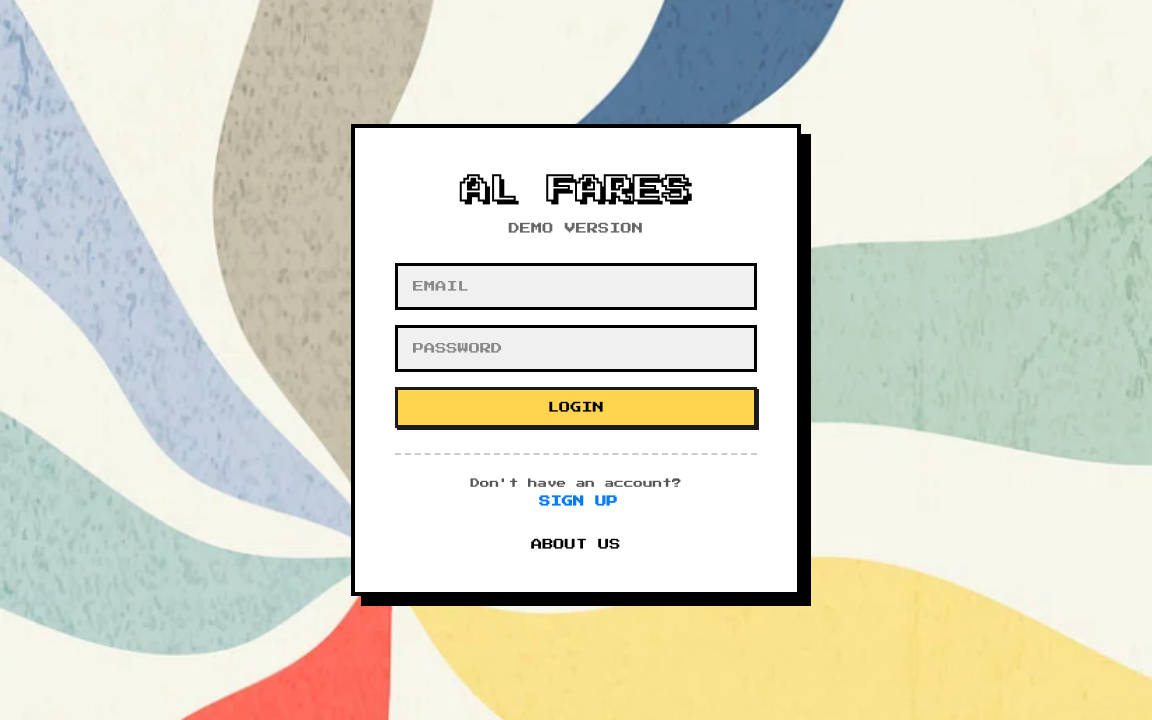
LoginForm Component Tests › shows error message on failed login
Type "wrong@test.com" into the field with placeholder "EMAIL" at (576, 286), box left=395, top=263, right=757, bottom=310
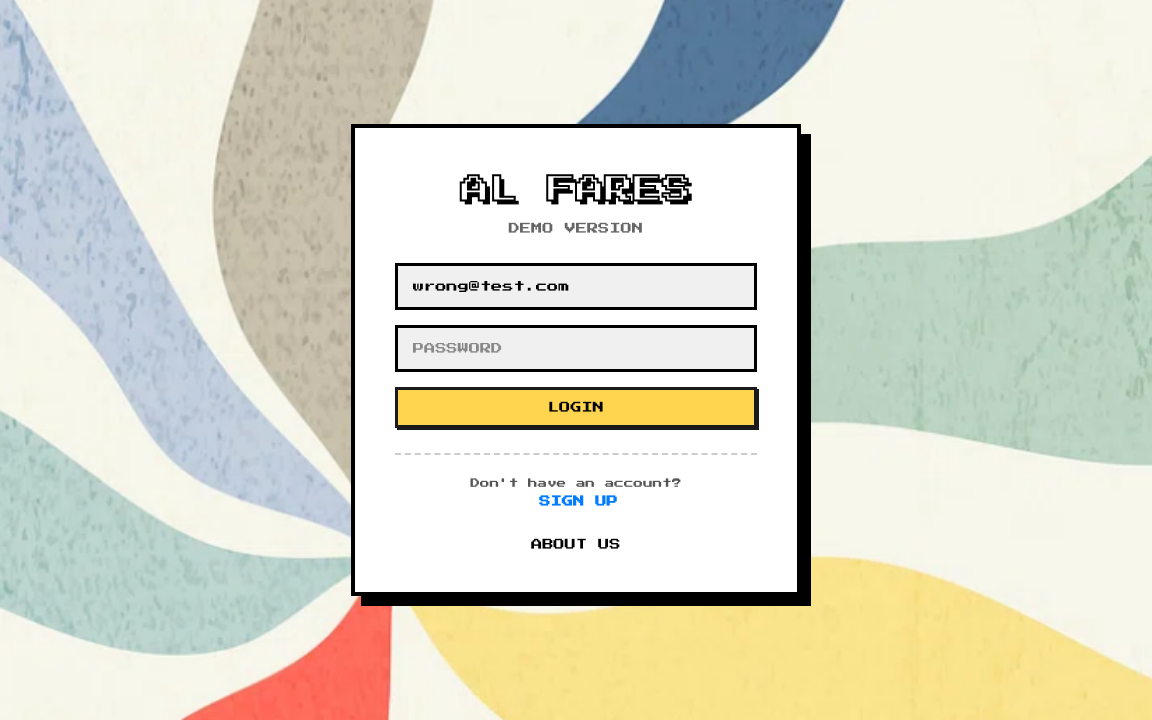
Type "wrongpass" into the password field with placeholder "PASSWORD" at (576, 348), box left=395, top=325, right=757, bottom=372
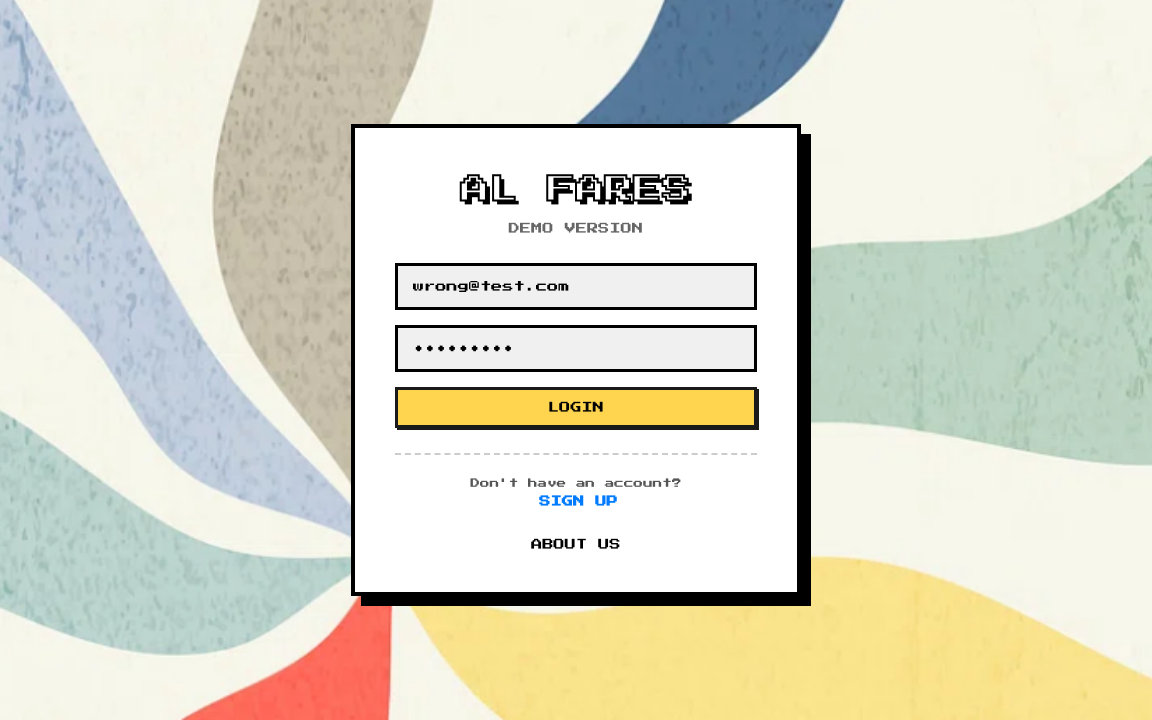
Click the button "LOGIN" at (576, 407), box left=395, top=387, right=757, bottom=428
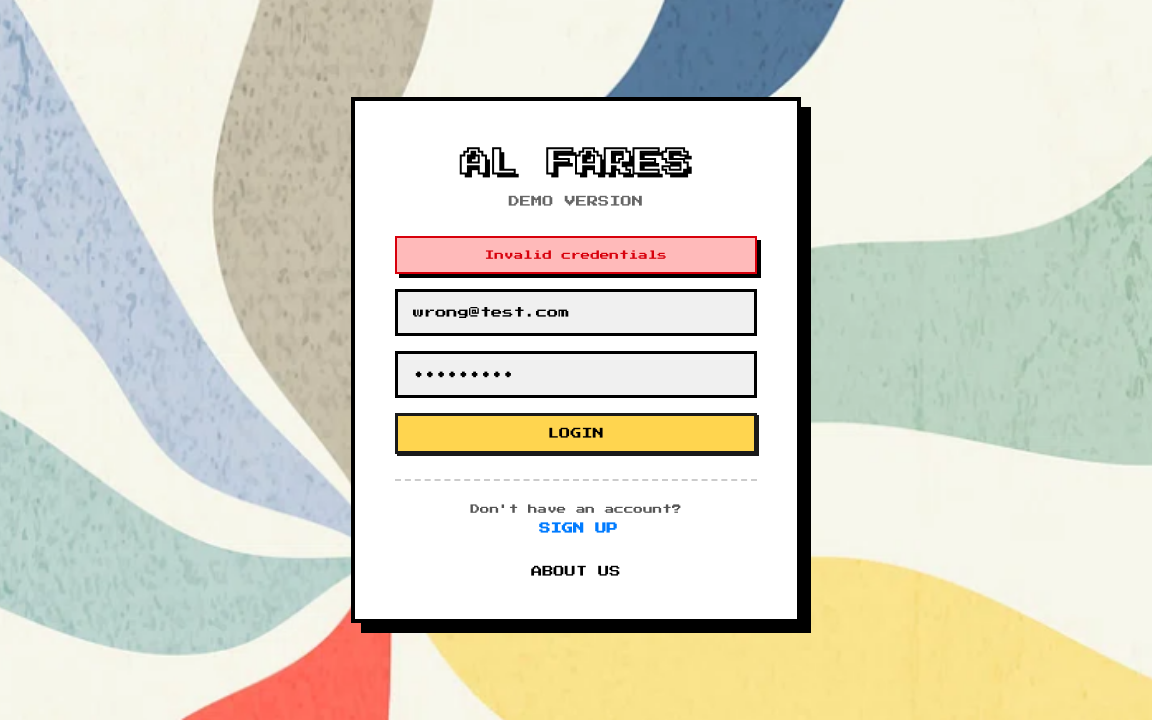
Now the text "Invalid credentials" is shown, box left=395, top=236, right=757, bottom=274
